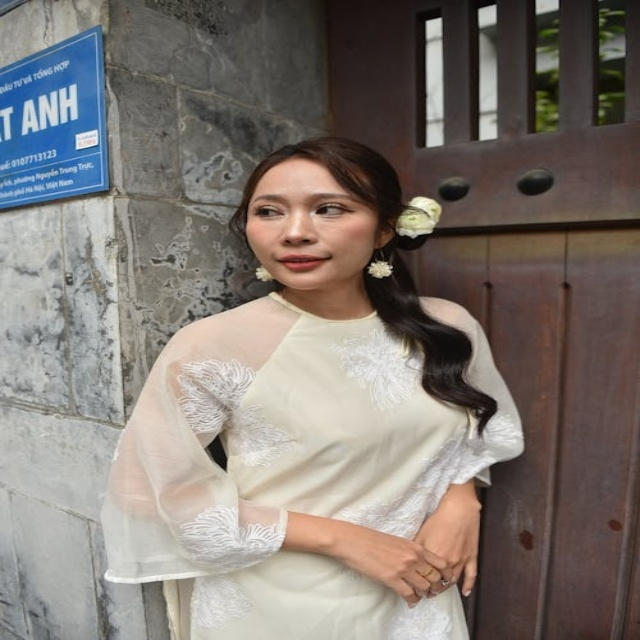Sin_gafas: (243, 191, 352, 226)
Sin_guantes: (334, 521, 444, 605), (411, 504, 493, 599)
Sin_mascara: (270, 250, 332, 283)
